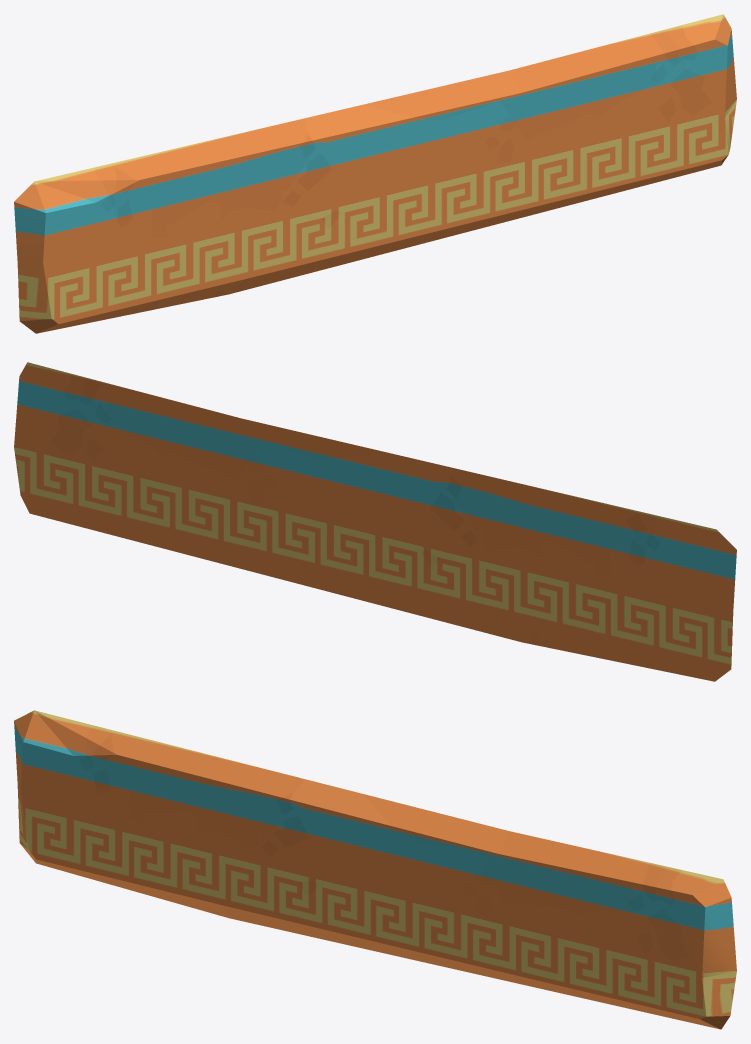
Rendered from SM_Prop_Mural_04.fbx.
3 views of the same model, one above another, from view 1: azimuth 30°, elevation 25°; view 2: azimuth 150°, elevation 25°; view 3: azimuth 330°, elevation 25° (orthographic).
Parts seen in each view (by area): view 1: SM_Prop_Mural_04; view 2: SM_Prop_Mural_04; view 3: SM_Prop_Mural_04.
Boxes of the visible parts, <box> form: SM_Prop_Mural_04: <box>14,14,736,333</box>; SM_Prop_Mural_04: <box>14,362,736,681</box>; SM_Prop_Mural_04: <box>14,710,736,1029</box>.
Bounding box in the file's own units: 253 × 53.6 × 6.83.
